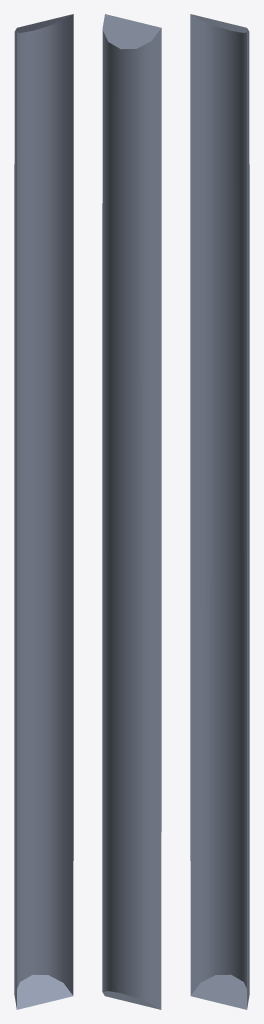
File: fret.fbx
3 renders of one model, left to right at view 1: azimuth 30°, elevation 25°; view 2: azimuth 150°, elevation 25°; view 3: azimuth 330°, elevation 25°, orthographic.
Visible parts, largest first — view 1: 02-fret; view 2: 02-fret; view 3: 02-fret.
Part boxes in pixels (x1,y1,x2,y2): 02-fret: (14, 14, 73, 1009); 02-fret: (102, 14, 161, 1009); 02-fret: (190, 14, 249, 1009).
Size of the model in its own units: 39.7 by 658 by 15.3.
